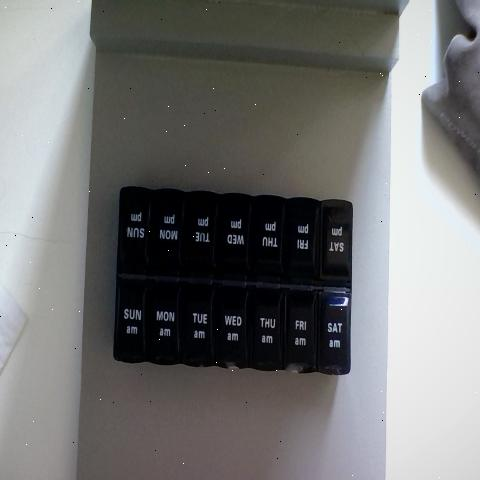FRI-am: (286, 295, 316, 376)
FRI-pm: (288, 198, 319, 283)
MON-am: (148, 279, 178, 364)
MON-pm: (152, 194, 186, 272)
PillBox: (106, 176, 360, 390)
SAT-am: (319, 290, 350, 376)
SAT-pm: (322, 202, 350, 283)
SUN-am: (116, 278, 148, 361)
SUN-pm: (120, 193, 148, 271)
THU-am: (251, 288, 284, 372)
THU-pm: (253, 199, 284, 281)
TUE-am: (183, 283, 214, 368)
TUE-pm: (187, 193, 216, 273)
WED-am: (216, 286, 250, 368)
WED-pm: (215, 197, 254, 279)
